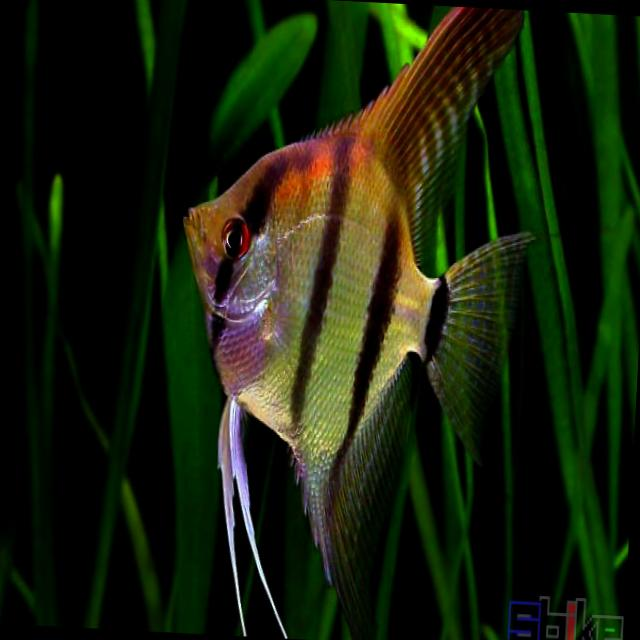AngelFish: (160, 0, 544, 640)
